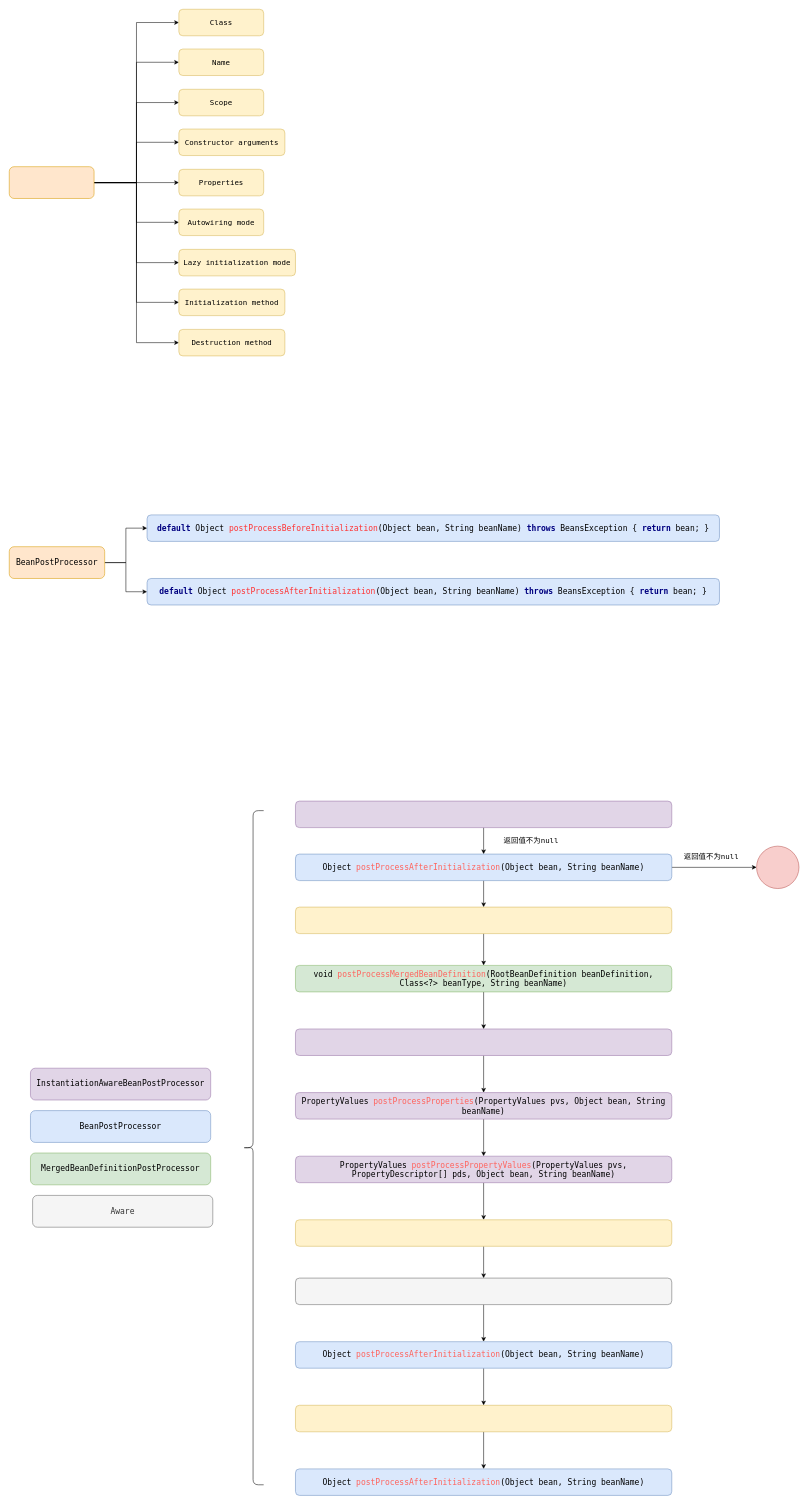
Image size: 808x1505. Some labels were removed from this diagram. Here are the shapes that lost their labels. From the top down, the centre of each, then its label:
pixel 51 182: BeanDefinition
pixel 483 814: Object postProcessBeforeInstantiation (Class<?> beanClass, String beanName)
pixel 777 867: 返回bean实例，结束
pixel 483 920: BeanClass.newInstance()
pixel 483 1041: boolean postProcessAfterInstantiation (Object bean, String beanName)
pixel 483 1232: applyPropertyValues(beanName, mbd, bw, pvs)
pixel 483 1291: Invoke Aware Setter Method
pixel 483 1418: 调用 afterPropertiesSet() 和 自定义init方法
